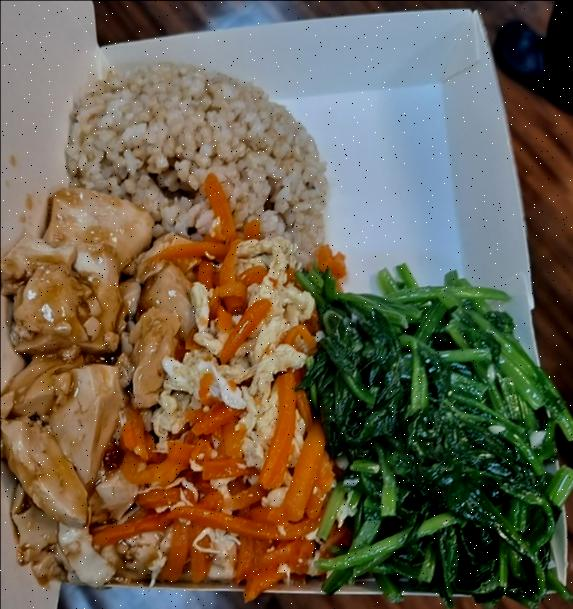big grilled chicken leg: (34, 0, 557, 609)
box: (66, 61, 328, 274)
braised fish fillet: (304, 272, 556, 600), (110, 184, 316, 584), (0, 191, 193, 587)
